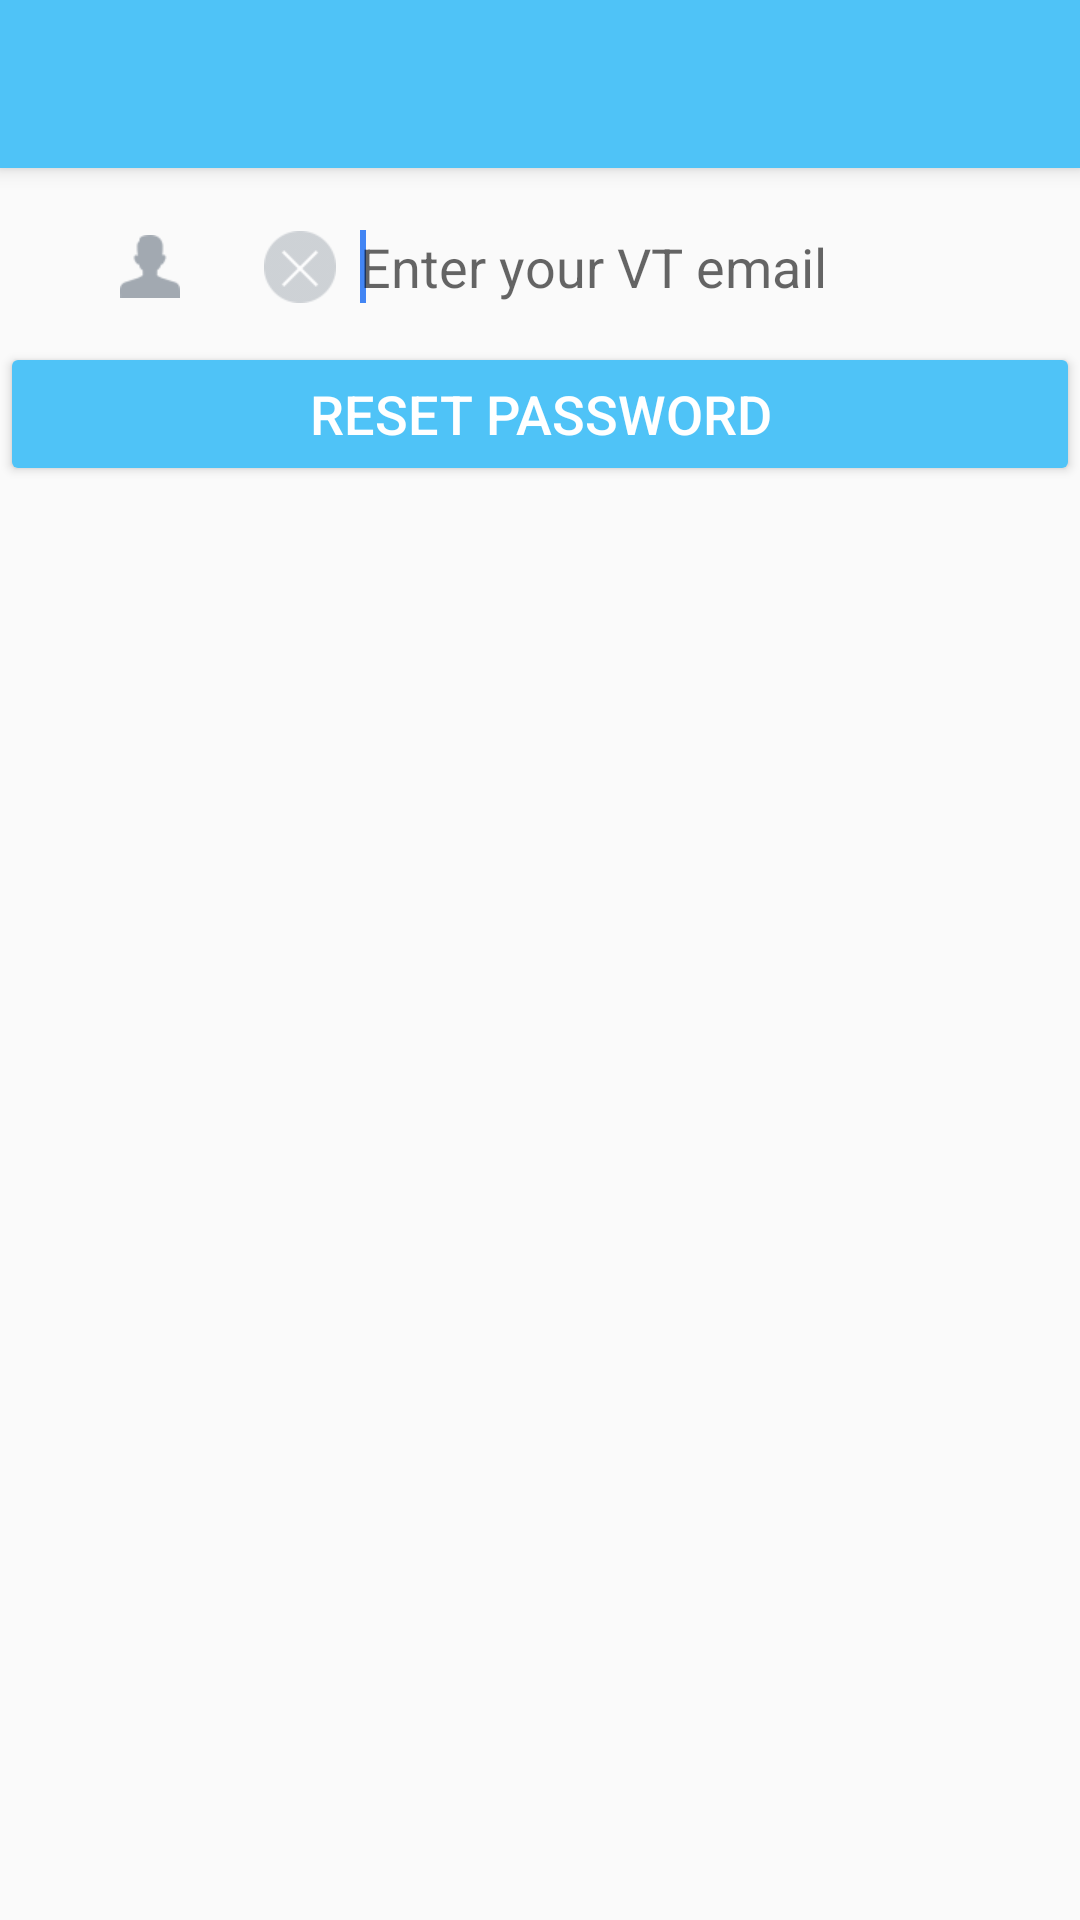

Named icons in this screenshot (1080 × 1920) and their bounding boxes, [x1=x1, y1=y1, x2=x2, y2=y2]:
login delete: [x1=264, y1=231, x2=336, y2=303]
login id: [x1=120, y1=235, x2=180, y2=298]
